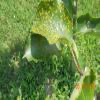Apple rust leaf: (30, 0, 74, 58), (22, 27, 65, 74)
